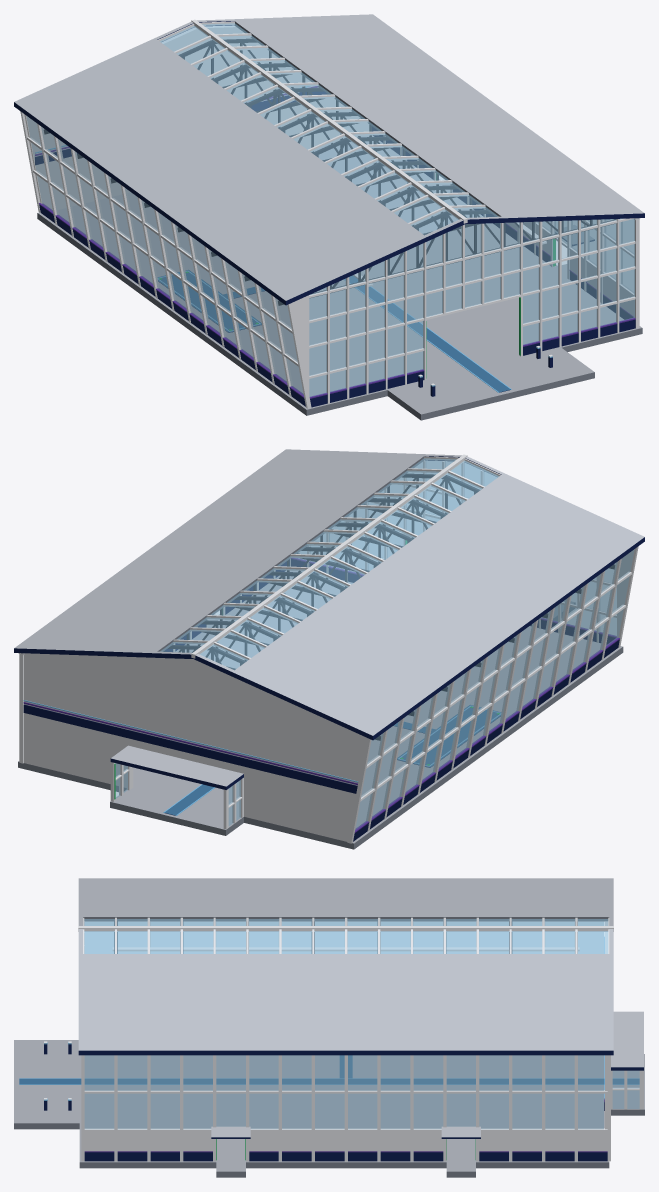
Rendered from FacilityVisual.obj.
3 views of the same model, one above another, from view 1: azimuth 30°, elevation 25°; view 2: azimuth 150°, elevation 25°; view 3: azimuth 270°, elevation 25° (orthographic).
Visible parts, largest first — view 1: LLASO_Facility; view 2: LLASO_Facility; view 3: LLASO_Facility.
Boxes of the visible parts, x1,y1,x2,y2 form: LLASO_Facility: [14, 14, 644, 420]; LLASO_Facility: [14, 449, 644, 849]; LLASO_Facility: [14, 878, 644, 1177].
Size of the model in its own units: 39 by 15.7 by 57.55.
